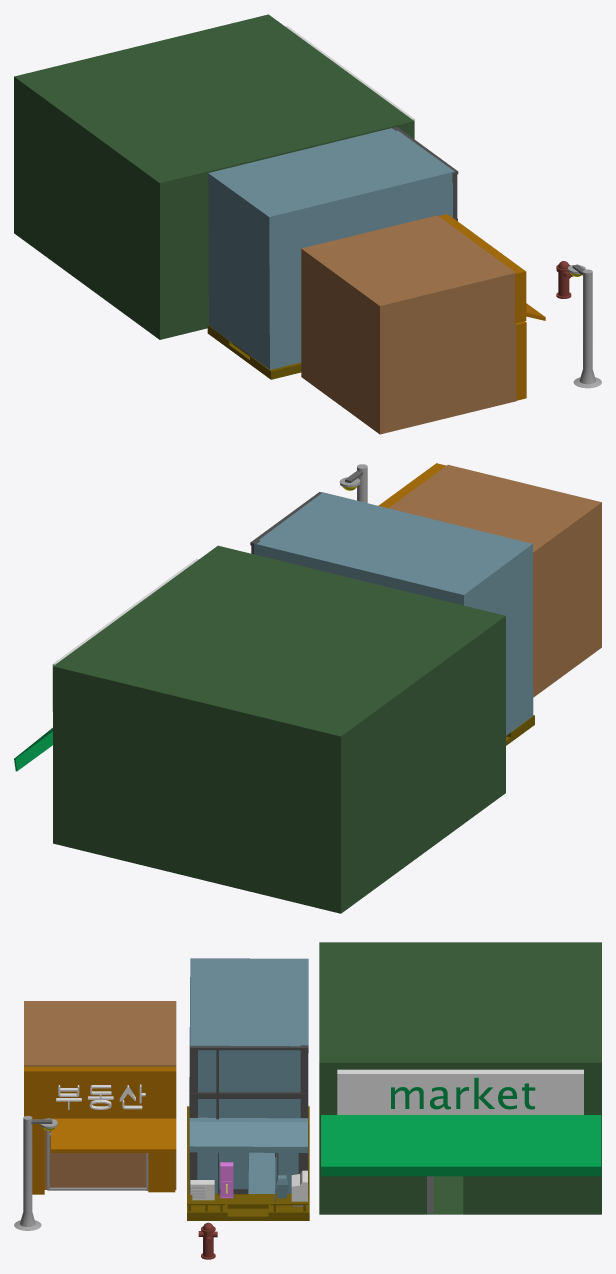
The model's file is 유현규 맵.fbx.
The picture shows the model from 3 angles, top to bottom: view 1: azimuth 30°, elevation 25°; view 2: azimuth 150°, elevation 25°; view 3: azimuth 270°, elevation 25°; orthographic projection. The views are drawn at different scales.
Visible parts, largest first — view 1: typeMesh2, pCube70, pCube55, pCylinder11; view 2: typeMesh2, pCube55, pCube70, pCylinder11; view 3: typeMesh2, pCube55, pCube70, pCylinder11, pCylinder7.
Part boxes in pixels (x1,y1,x2,y2): typeMesh2: (14,14,414,339); pCube70: (301,214,545,434); pCube55: (207,127,458,379); pCylinder11: (567,264,601,388); typeMesh2: (14,545,505,913); pCube55: (250,492,534,745); pCube70: (378,463,601,697); pCylinder11: (339,464,367,502); typeMesh2: (319,942,601,1214); pCube55: (187,958,309,1220); pCube70: (24,1001,176,1194); pCylinder11: (14,1116,57,1230); pCylinder7: (198,1222,217,1259).
Bounding box in the file's own units: 18.19 × 7.91 × 26.89.
